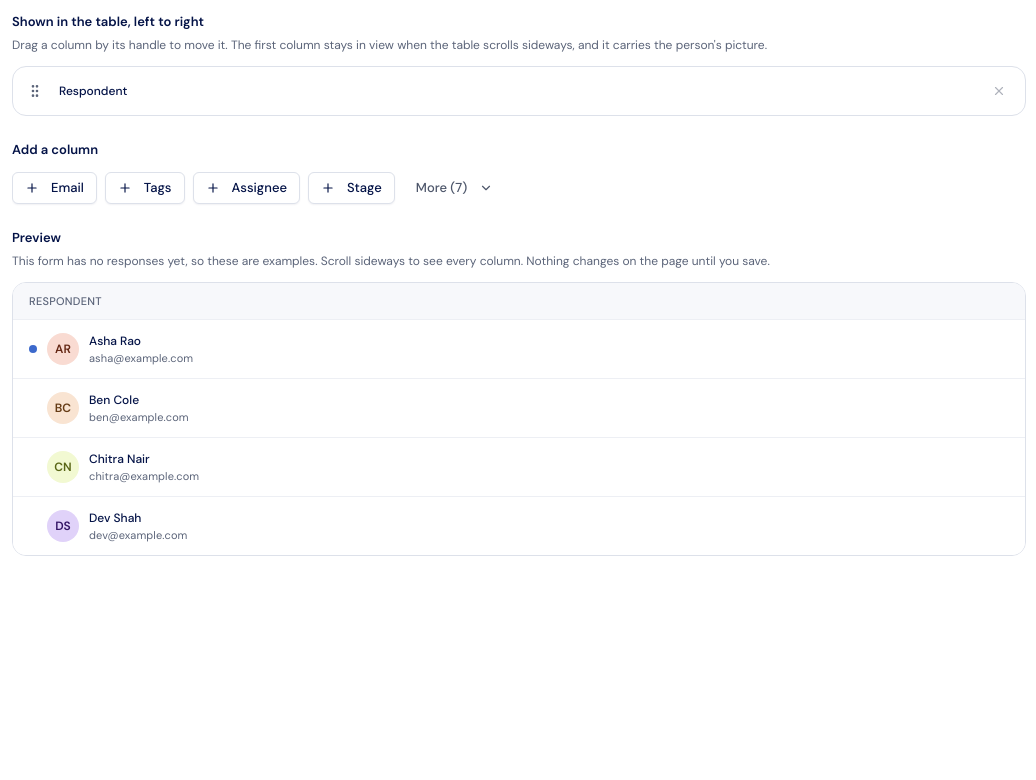
ColumnsTab › More opens a short list you can search, and says when nothing matches
The width and height of the screenshot is (1036, 780).
Step 1. Click the button with aria-label "More columns" → click(455, 188), box [403, 172, 506, 204]
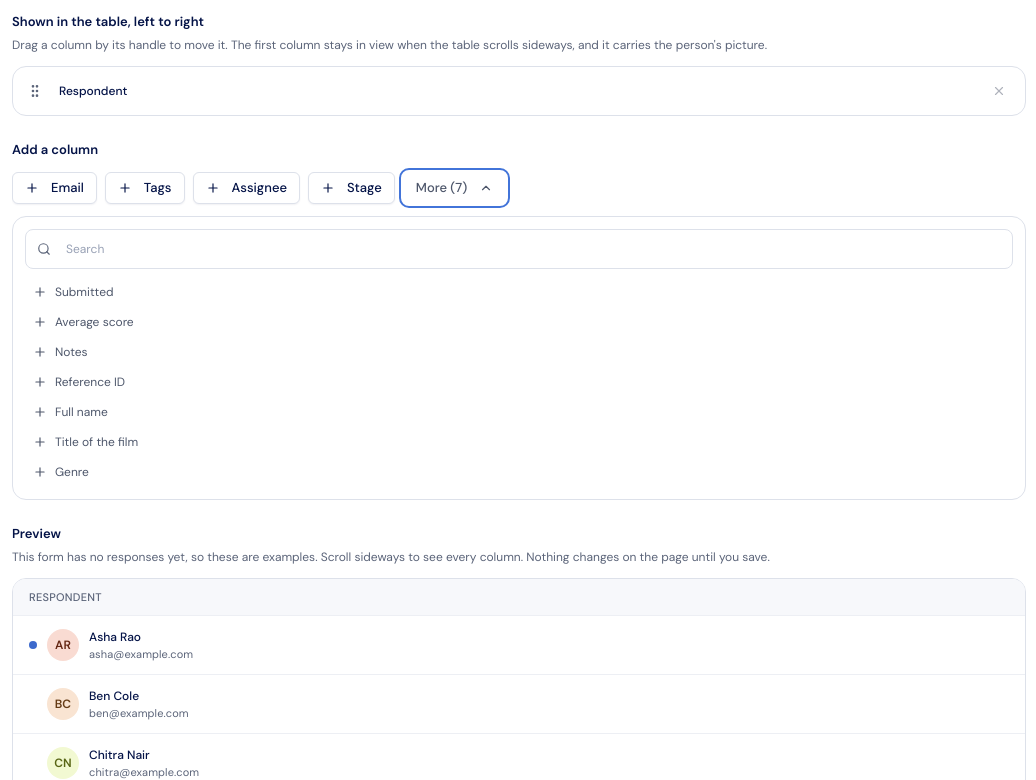
Step 2. Type "tit" into the field named "Search the other columns" → (519, 249), box [25, 229, 1013, 269]
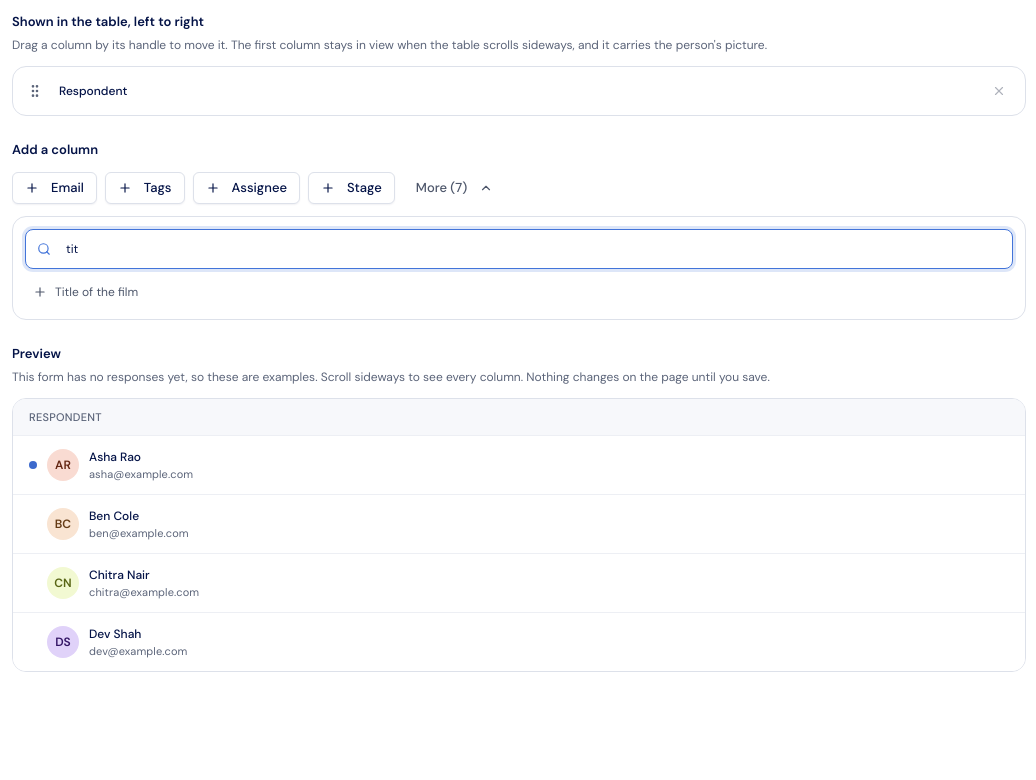
Expected: the buttons read "Title of the film", in this order, [25, 277, 1013, 307]
Step 3. Replace the text in the field named "Search the other columns" with "zzz" → (519, 249), box [25, 229, 1013, 269]
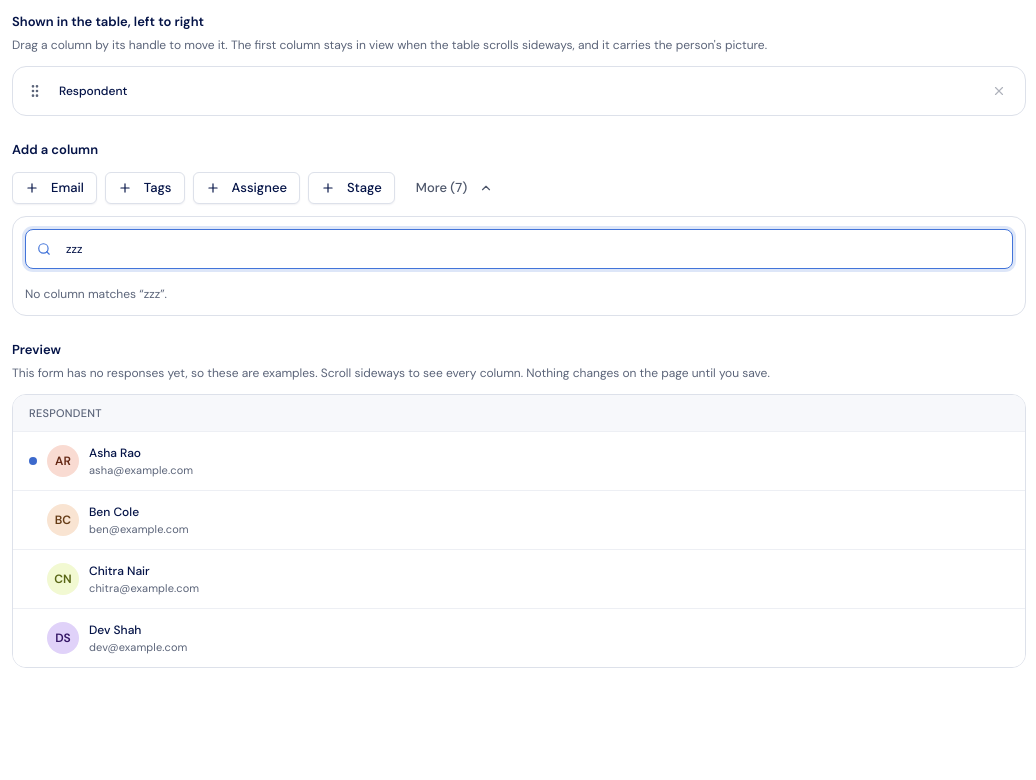
Expected: the text "No column matches “zzz”." is shown, [25, 286, 167, 302]
